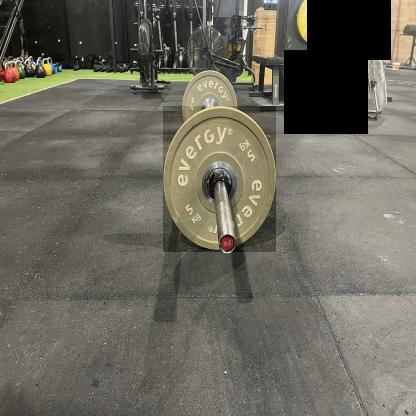barbell: (164, 107, 277, 253)
